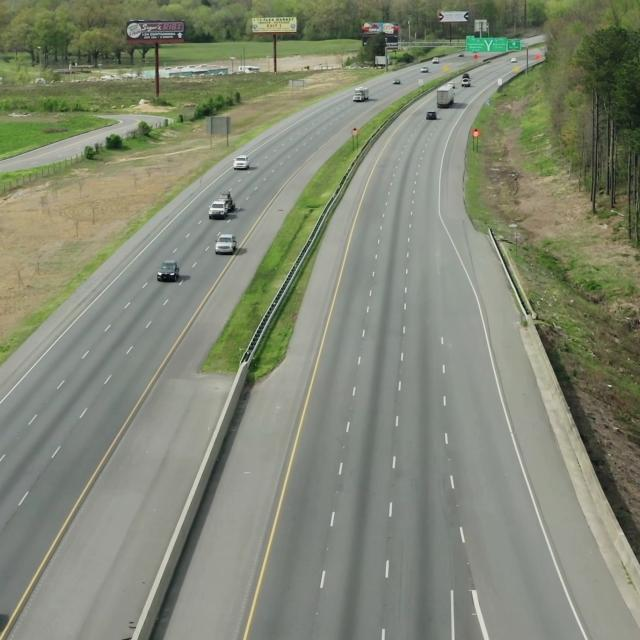Car: (208, 189, 238, 220), (156, 258, 181, 284), (216, 232, 238, 255), (232, 153, 251, 172)
